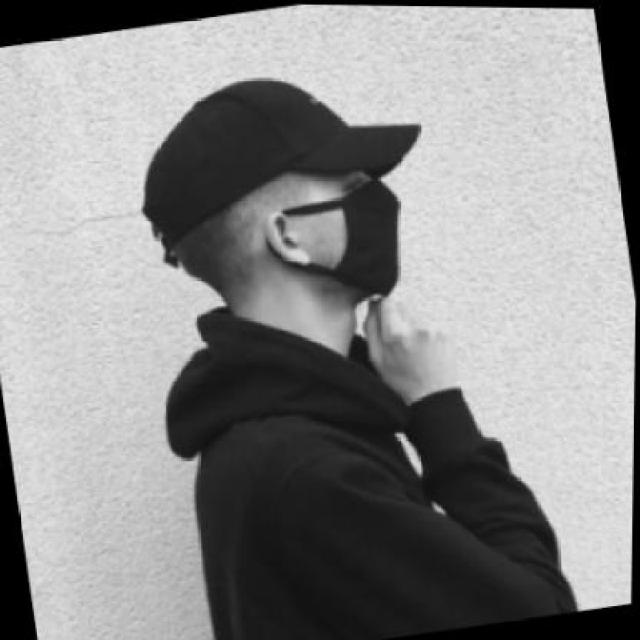hat: (118, 49, 437, 257)
